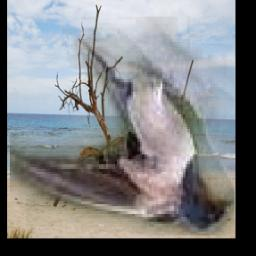Swallow: (10, 17, 235, 235)
